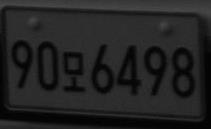0: (35, 40, 60, 92)
4: (115, 44, 143, 95)
6: (90, 42, 115, 94)
8: (170, 44, 195, 98)
9: (142, 44, 167, 96), (9, 37, 33, 89)
모: (61, 50, 85, 93)
